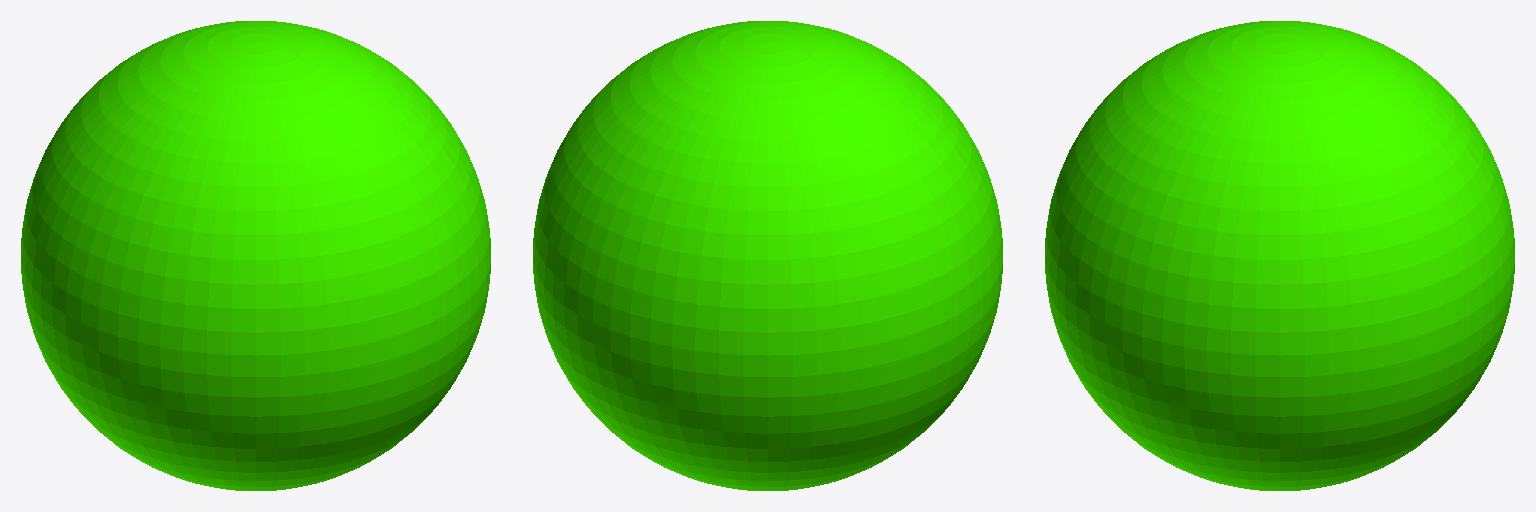
URDF robot description (red_box):
<?xml version="1.0"?>
<robot name="red_box">

    <link name="base_link">
        <inertial>
            <origin xyz="0.0 0.0 0.03429" rpy="0 0 0" />
            <mass value="0.17901809441827438" />
            <inertia ixx="8.4e-05" iyy="8.4e-05" izz="8.4e-05" ixy="-0.0" iyz="-0.0" ixz="-0.0" />
        </inertial>
        <visual>
            <origin xyz="0 0 0" rpy="0 0 0" />
            <geometry>
                <mesh filename="package://lara_description/meshes/parts/tennis_ball.stl"
                    scale="0.001 0.001 0.001" />
            </geometry>
            <material name="green">
                <color rgba=".3 1 0 1.0" />
            </material>
        </visual>
        <collision>
            <origin xyz="0 0 0" rpy="0 0 0" />
            <geometry>
                <mesh filename="package://lara_description/meshes/parts/tennis_ball.stl"
                    scale="0.001 0.001 0.001" />
            </geometry>
        </collision>
    </link>

    <gazebo reference="base_link">
        <material>Gazebo/Green</material>
        <kp>1000000.0</kp>
        <kd>1.0</kd>
        <mu1>1.16</mu1>
        <mu2>1.16</mu2>
        <maxVel>0.0</maxVel>
        <minDepth>0.003</minDepth>
    </gazebo>


</robot>

--- Render facts (derived) ---
3 views of the same robot in one strip: view 1: azimuth 30°, elevation 25°; view 2: azimuth 150°, elevation 25°; view 3: azimuth 270°, elevation 25° (orthographic).
Robot: red_box — 1 links, 0 joints (none); root link base_link; default pose: all joints at 0.
Visible links, largest first — view 1: base_link; view 2: base_link; view 3: base_link.
Boxes of the visible links, <box> form: base_link: <box>21,21,490,490</box>; base_link: <box>533,21,1002,490</box>; base_link: <box>1045,21,1514,490</box>.
Size in the robot's own frame: 0.0686 by 0.0686 by 0.0686 metres.
Meshes: 1 distinct files referenced, 1 mesh visuals loaded (1 binary STL).
